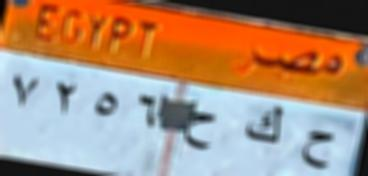2: (54, 77, 78, 120)
5: (91, 88, 120, 125)
6: (133, 94, 158, 134)
7: (8, 64, 40, 114)
7aa: (298, 121, 335, 175), (180, 106, 219, 155)
kaaf: (242, 98, 286, 150)
